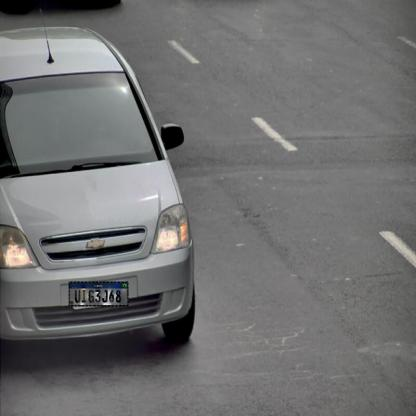PlacaM: (68, 282, 128, 306)
